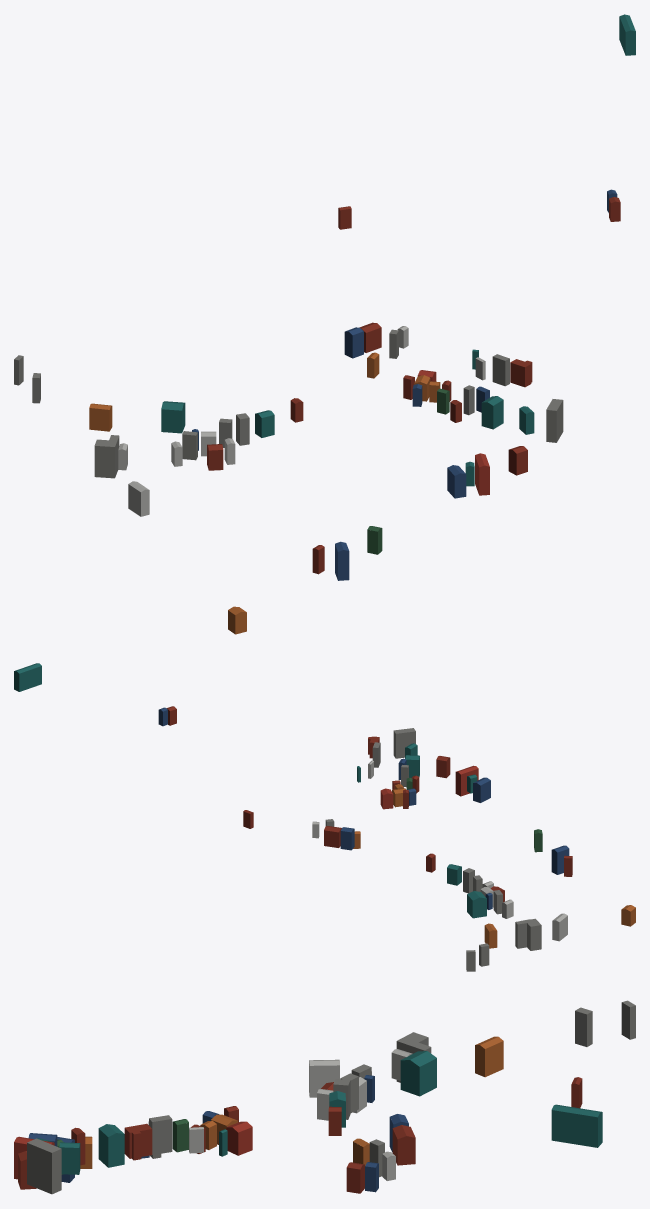
Rendered from near-16-54712-29737.648ef21b.glb.
The picture shows the model from 3 angles, top to bottom: view 1: azimuth 30°, elevation 25°; view 2: azimuth 150°, elevation 25°; view 3: azimuth 270°, elevation 25°; orthographic projection. The views are drawn at different scales.
Bounding box in the file's own units: 590 × 304 × 404.
